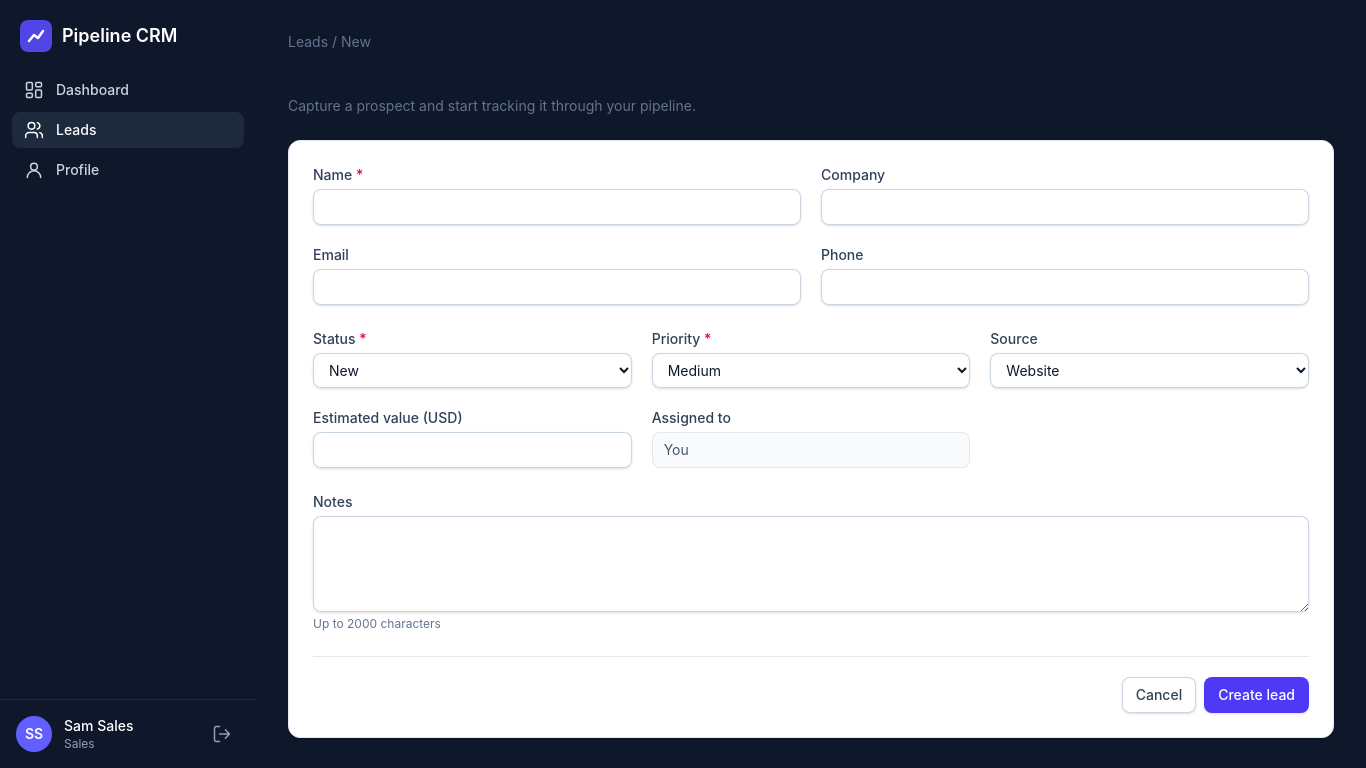
Test case: create lead › submits a valid lead and navigates to its detail page
The width and height of the screenshot is (1366, 768).
Type "Jamie Prospect" into the field labelled "Name *" at (557, 207), box x1=313 y1=189 x2=801 y2=225
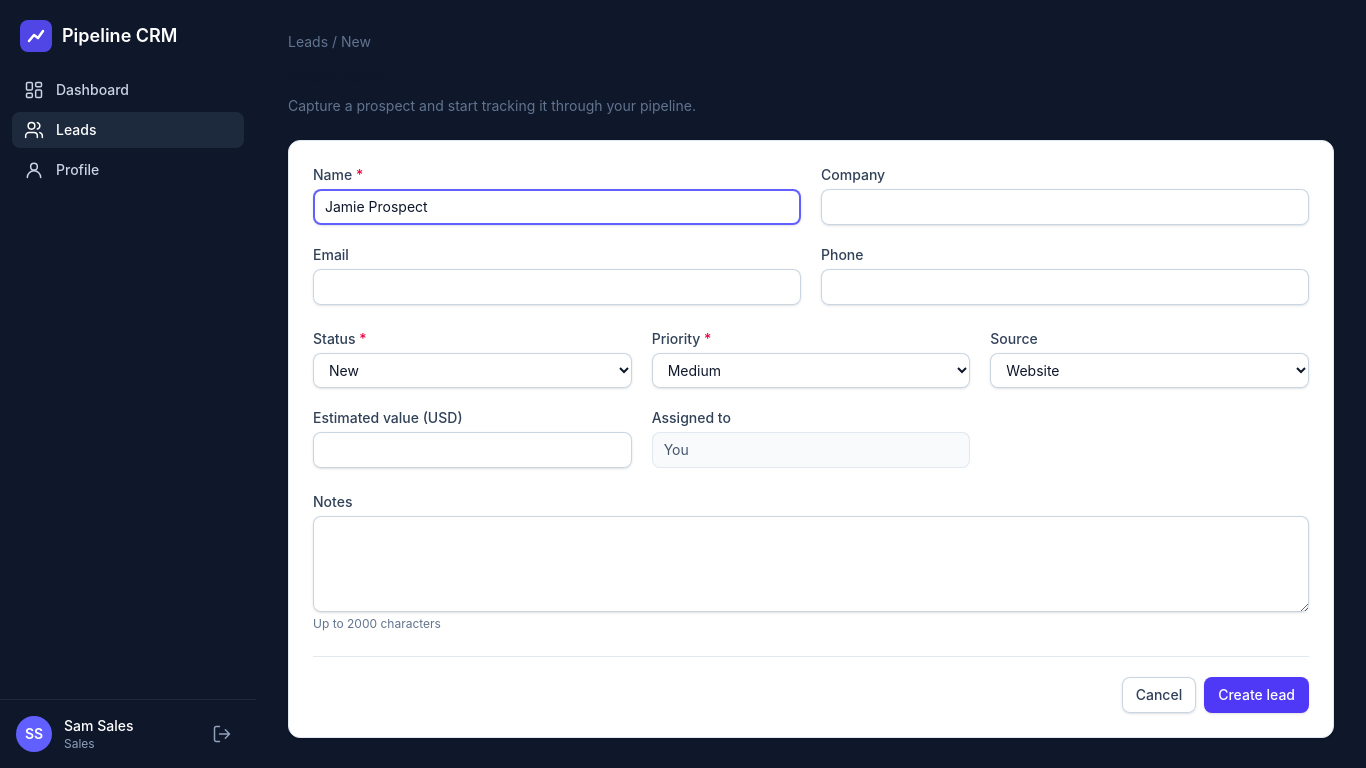
Type "Globex" into the field labelled "Company" at (1065, 207), box x1=821 y1=189 x2=1309 y2=225
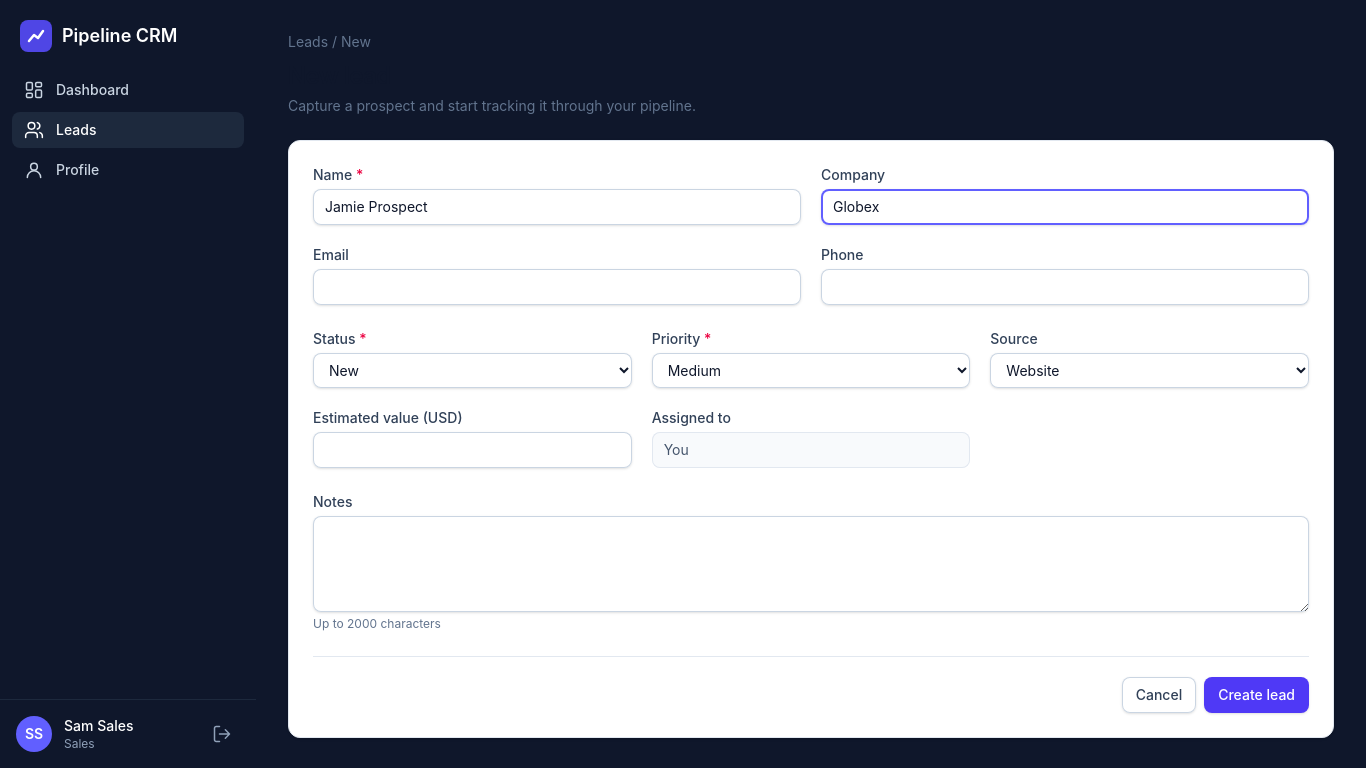
Select "High" in the dropdown labelled "Priority *" at (811, 370), box x1=652 y1=353 x2=970 y2=388
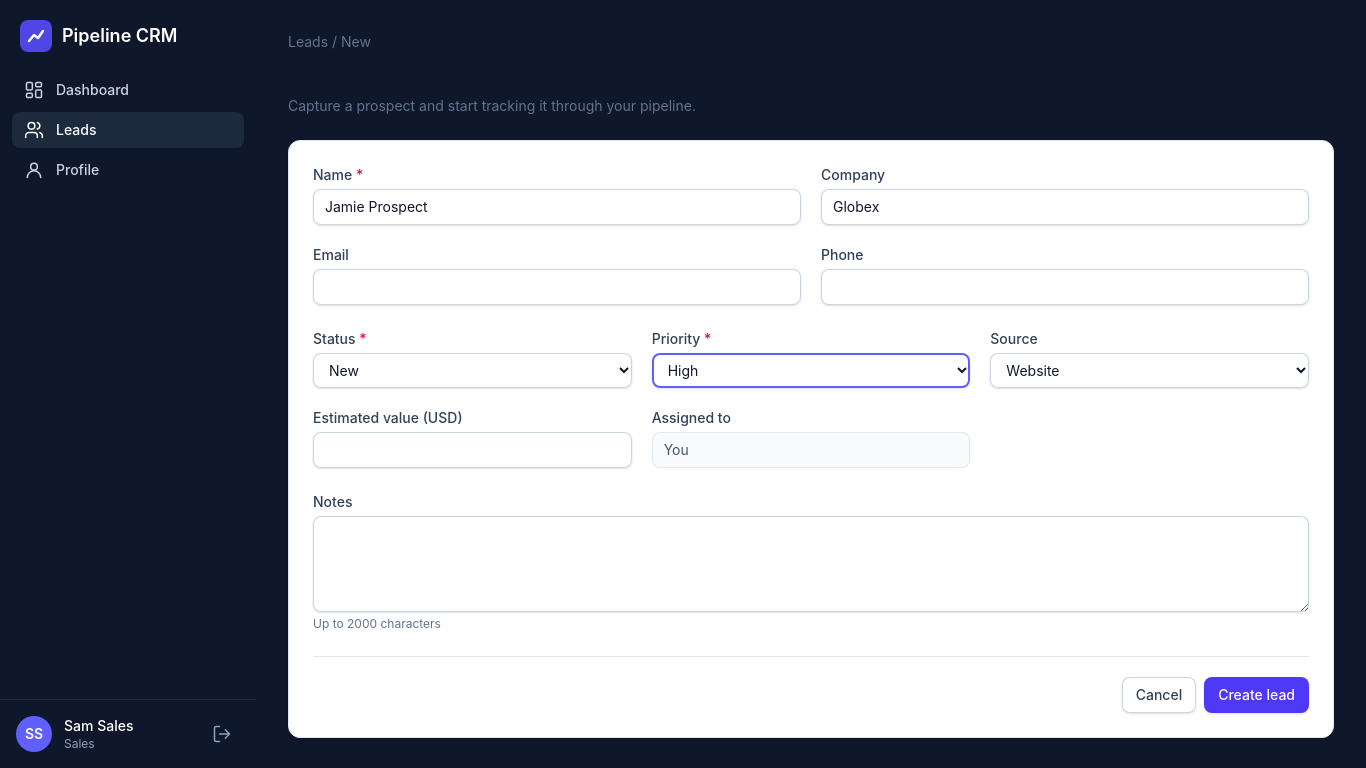
Type "2500" into the number field labelled "Estimated value (USD)" at (472, 450), box x1=313 y1=432 x2=632 y2=468
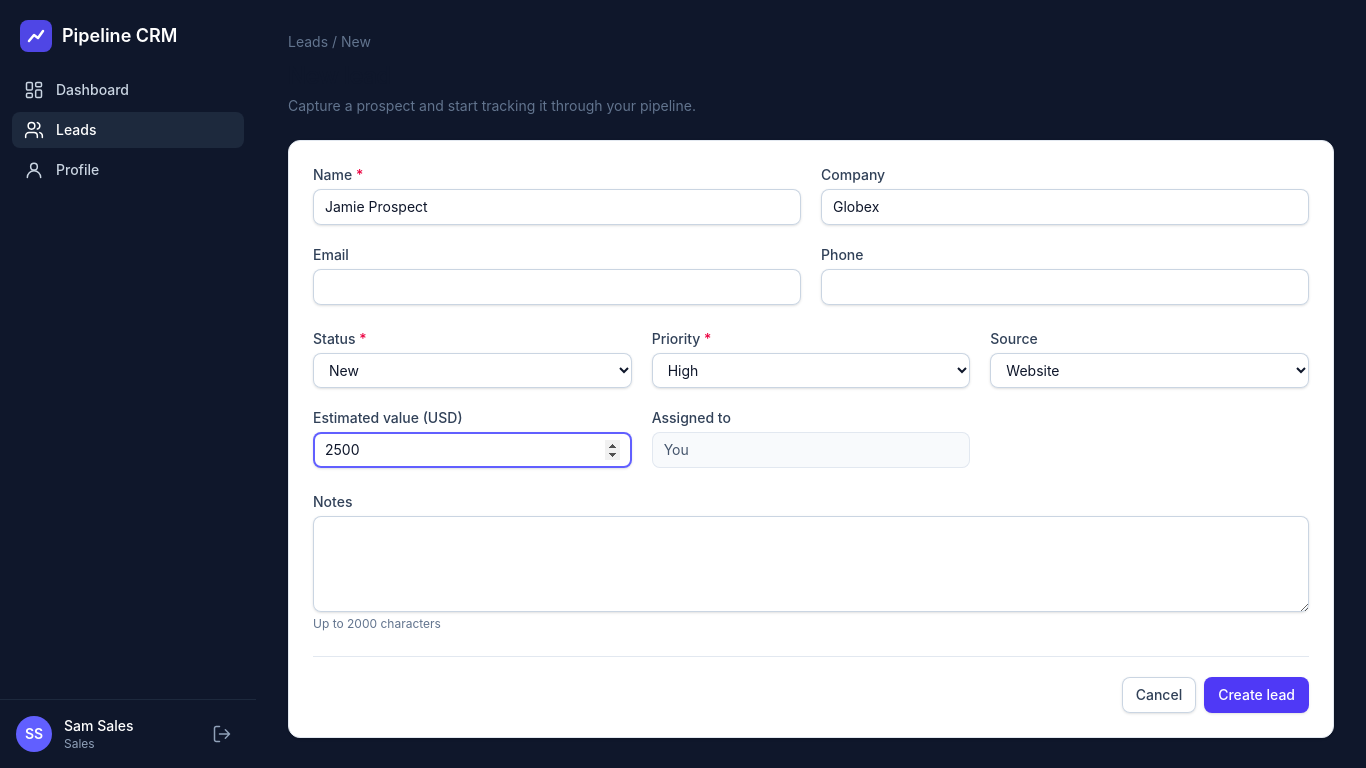
Click the button "Create lead" at (1257, 695), box x1=1204 y1=677 x2=1309 y2=713
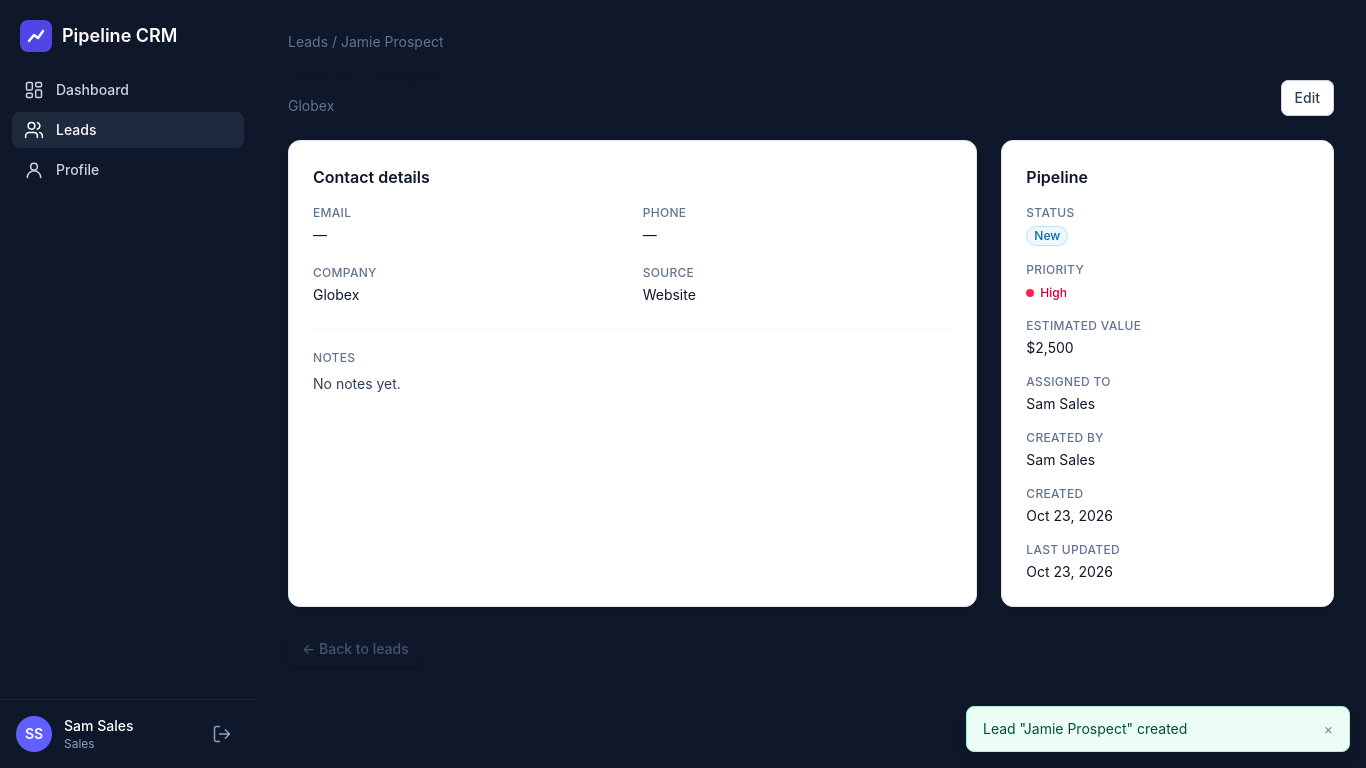
Check: the text "Lead \"Jamie Prospect\" created" is shown, box x1=983 y1=719 x2=1187 y2=739
